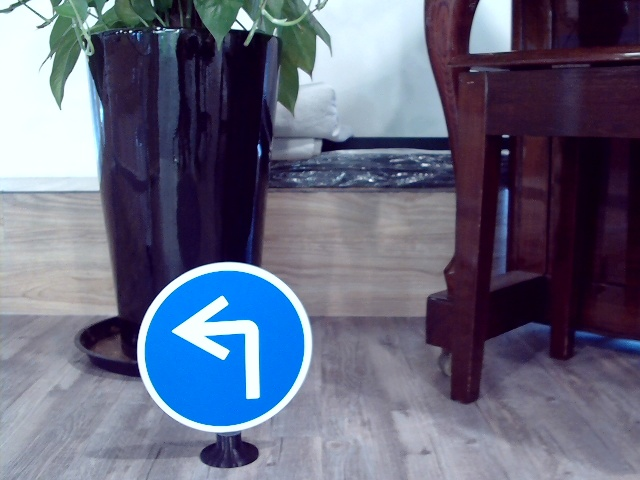turn_left: (169, 292, 273, 403)
